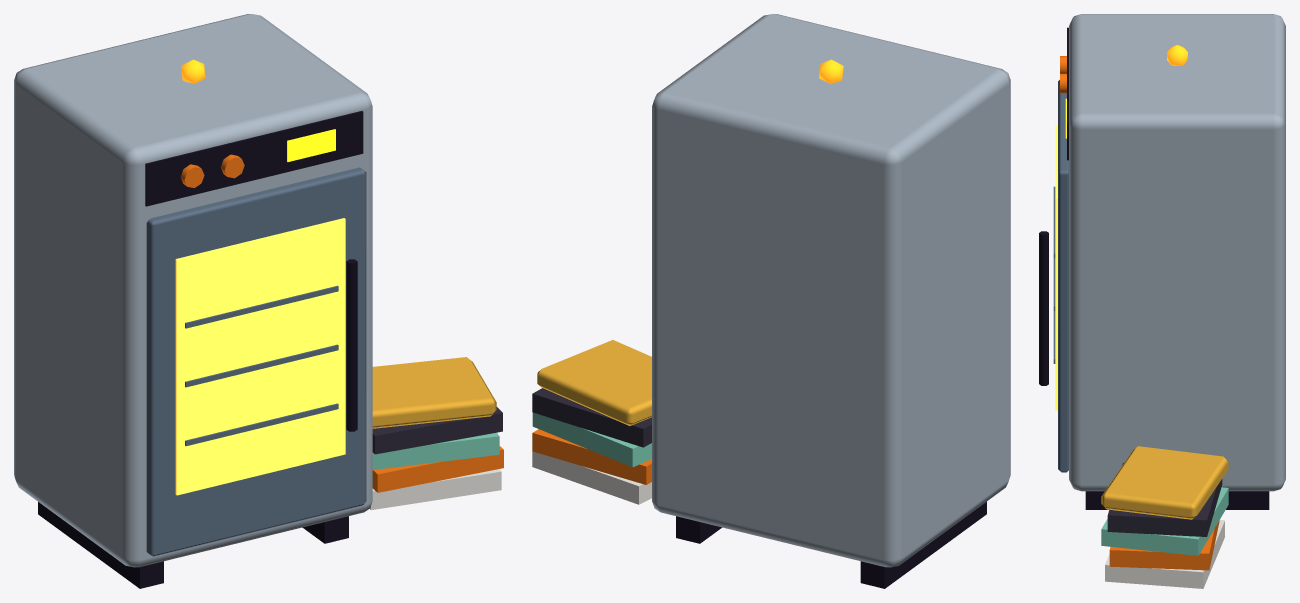
Rendered from station_buffer_ausstattung_3_2.glb.
The picture shows the model from 3 angles, left to right: view 1: azimuth 30°, elevation 25°; view 2: azimuth 150°, elevation 25°; view 3: azimuth 270°, elevation 25°; orthographic projection. The views are drawn at different scales.
Parts seen in each view (by area): view 1: station_buffer_ausstattung_3_2; view 2: station_buffer_ausstattung_3_2; view 3: station_buffer_ausstattung_3_2.
Part boxes in pixels (x1=…): station_buffer_ausstattung_3_2: x1=14, y1=14, x2=503, y2=588; station_buffer_ausstattung_3_2: x1=532, y1=14, x2=1010, y2=588; station_buffer_ausstattung_3_2: x1=1039, y1=14, x2=1285, y2=588.
Bounding box in the file's own units: 1.02 × 1.11 × 0.592.
